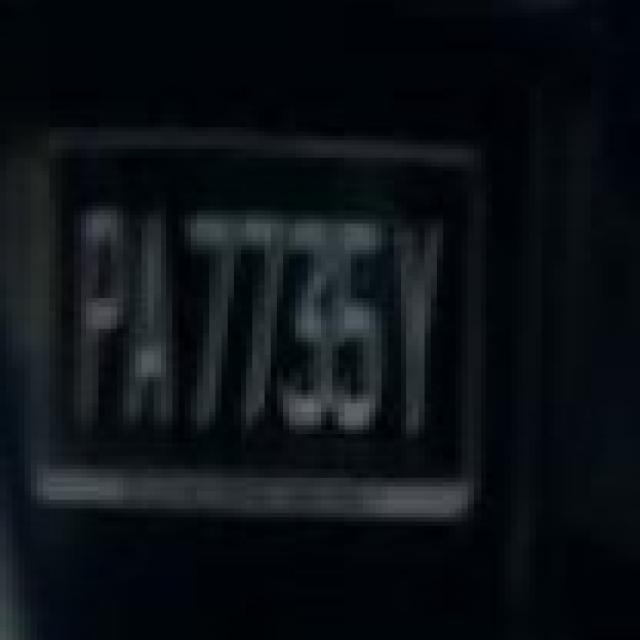3: (285, 217, 331, 431)
5: (332, 217, 386, 432)
7: (234, 210, 282, 424), (188, 212, 235, 424)
A: (125, 206, 176, 428)
P: (70, 206, 126, 429)
Y: (385, 222, 442, 434)
